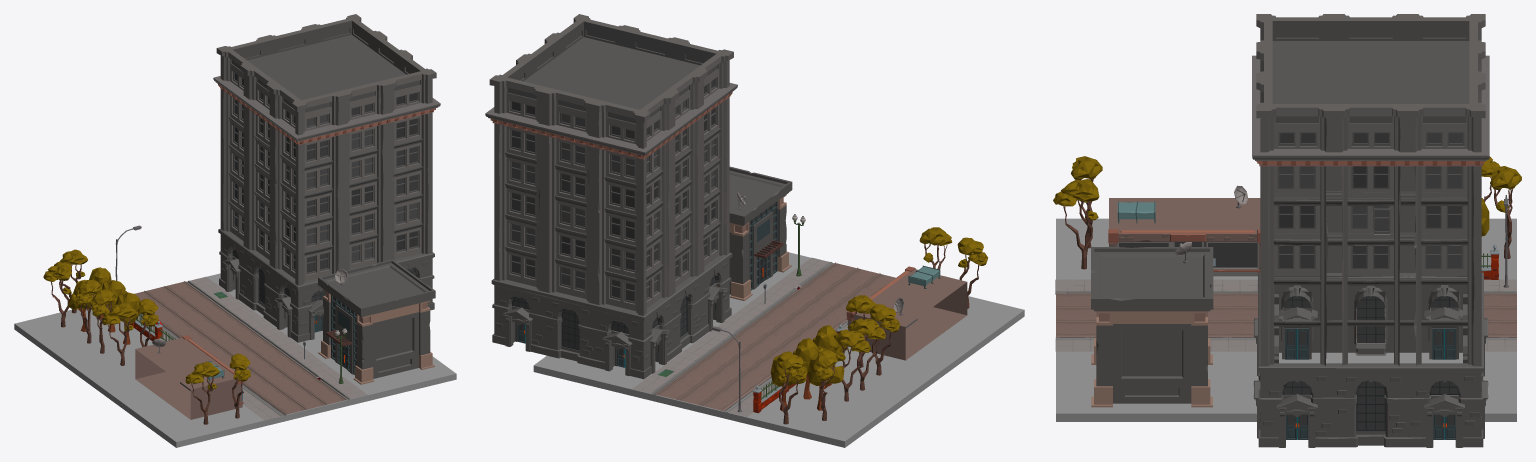
Rendered from City Area 3.fbx.
3 renders of one model, left to right at view 1: azimuth 30°, elevation 25°; view 2: azimuth 150°, elevation 25°; view 3: azimuth 270°, elevation 25°, orthographic. The views are drawn at different scales.
Parts seen in each view (by area): view 1: SM_Bld_OfficeOld_Large_01.004, Plane.003, SM_Env_Sidewalk_Straight_01.189, SM_Bld_Station_02.001, SM_Bld_Shop_03.001, SM_Env_Tree_02.024, SM_Env_Tree_02.008, SM_Env_Tree_02.022, SM_Env_Tree_02.001, SM_Env_Tree_02.013, SM_Env_Tree_02.023, SM_Env_Tree_02.007 (+3 smaller); view 2: SM_Bld_OfficeOld_Large_01.004, Plane.003, SM_Env_Sidewalk_Straight_01.189, SM_Bld_Station_02.001, SM_Bld_Shop_03.001, SM_Env_Tree_02.001, SM_Env_Tree_02.030, SM_Env_Tree_02.024, SM_Env_Tree_02.013, SM_Env_Tree_02.008, SM_Env_Tree_02.022, SM_Env_Tree_02.023 (+5 smaller); view 3: SM_Bld_OfficeOld_Large_01.004, SM_Bld_Station_02.001, Plane.003, SM_Env_Sidewalk_Straight_01.189, SM_Bld_Shop_03.001, SM_Env_Tree_02.023, SM_Bld_Shop_03_Glass.001, SM_Env_Tree_02.030, SM_Env_Tree_02.024, SM_Prop_Vents_Wide_01.
Boxes of the visible parts, left/top/right/bottom form: SM_Bld_OfficeOld_Large_01.004: left=213, top=14, right=440, bottom=342; Plane.003: left=14, top=273, right=456, bottom=447; SM_Env_Sidewalk_Straight_01.189: left=115, top=225, right=367, bottom=420; SM_Bld_Station_02.001: left=318, top=259, right=435, bottom=384; SM_Bld_Shop_03.001: left=135, top=335, right=243, bottom=419; SM_Env_Tree_02.024: left=185, top=361, right=219, bottom=424; SM_Env_Tree_02.008: left=102, top=302, right=136, bottom=365; SM_Env_Tree_02.022: left=43, top=264, right=71, bottom=327; SM_Env_Tree_02.001: left=75, top=279, right=102, bottom=343; SM_Env_Tree_02.013: left=91, top=289, right=114, bottom=353; SM_Env_Tree_02.023: left=229, top=353, right=250, bottom=418; SM_Env_Tree_02.007: left=137, top=299, right=158, bottom=347; SM_Bld_OfficeOld_Large_01.004: left=485, top=14, right=737, bottom=379; Plane.003: left=533, top=252, right=1024, bottom=447; SM_Env_Sidewalk_Straight_01.189: left=632, top=214, right=895, bottom=416; SM_Bld_Station_02.001: left=729, top=166, right=792, bottom=300; SM_Bld_Shop_03.001: left=846, top=266, right=967, bottom=360; SM_Env_Tree_02.001: left=834, top=329, right=870, bottom=401; SM_Env_Tree_02.030: left=777, top=352, right=807, bottom=424; SM_Env_Tree_02.024: left=957, top=237, right=987, bottom=308; SM_Env_Tree_02.013: left=847, top=318, right=885, bottom=390; SM_Env_Tree_02.008: left=870, top=304, right=900, bottom=375; SM_Env_Tree_02.022: left=813, top=350, right=837, bottom=420; SM_Env_Tree_02.023: left=919, top=227, right=952, bottom=269; SM_Bld_OfficeOld_Large_01.004: left=1252, top=14, right=1489, bottom=447; SM_Bld_Station_02.001: left=1091, top=247, right=1213, bottom=407; Plane.003: left=1056, top=218, right=1516, bottom=421; SM_Env_Sidewalk_Straight_01.189: left=1055, top=195, right=1516, bottom=351; SM_Bld_Shop_03.001: left=1108, top=198, right=1260, bottom=276; SM_Env_Tree_02.023: left=1053, top=179, right=1099, bottom=269; SM_Bld_Shop_03_Glass.001: left=1119, top=242, right=1257, bottom=267; SM_Env_Tree_02.030: left=1490, top=166, right=1521, bottom=258; SM_Env_Tree_02.024: left=1071, top=156, right=1102, bottom=248; SM_Prop_Vents_Wide_01: left=1117, top=201, right=1155, bottom=223.
Size of the model in its own units: 11893 by 8282 by 10171.
